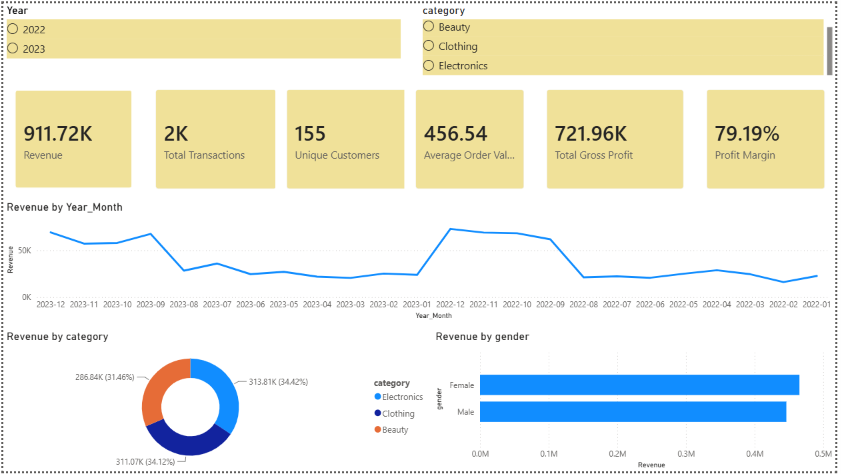

This screenshot's page, from the dashboard's own definition file:
{"tool":"powerbi","page":{"name":"Page 1","canvas":[1280,720],"ordinal":0},"visuals":[{"type":"cardVisual","fields":{"Data":["public retail_sales.Revenue"]},"box":[0,116.1,216.7,187.7],"z":0},{"type":"cardVisual","fields":{"Data":["public retail_sales.Total Transactions"]},"box":[216.7,116.1,220.5,187.7],"z":1000},{"type":"cardVisual","fields":{"Data":["public retail_sales.Unique Customers"]},"box":[417.9,116.1,222.5,187.7],"z":2000},{"type":"cardVisual","fields":{"Data":["public retail_sales.Average Order Value"]},"box":[617.1,116.1,201.2,187.7],"z":3000},{"type":"cardVisual","fields":{"Data":["public retail_sales.Total Gross Profit"]},"box":[818.3,116.1,245.7,187.7],"z":4000},{"type":"cardVisual","fields":{"Data":["public retail_sales.Profit Margin"]},"box":[1064,116.1,216.7,187.7],"z":5000},{"type":"listSlicer","fields":{"Values":["public retail_sales.sale_date.Variation.Date Hierarchy.Year"]},"box":[0,0,616.8,115.5],"z":6000},{"type":"listSlicer","fields":{"Values":["public vw_category_performance.category"]},"box":[640.3,0,640.3,115.5],"z":7000},{"type":"lineChart","fields":{"Category":["public retail_sales.Year_Month"],"Y":["public retail_sales.Revenue"]},"box":[0,303.7,1280.7,187.7],"z":8000},{"type":"donutChart","fields":{"Y":["public retail_sales.Revenue"],"Category":["public vw_category_performance.category"]},"box":[0,501.3,659.9,219.3],"z":9000},{"type":"clusteredBarChart","fields":{"Category":["public retail_sales.gender"],"Y":["public retail_sales.Revenue"]},"box":[660,501,620,219],"z":10000}]}

Visuals, with their boxes in screenshot pixels (x1, y1, x2, y2), scaled from the page's 1280x720 canvas onto the 841x474 screenshot:
cardVisual - public retail_sales.Revenue: <bbox>0, 76, 142, 200</bbox>
cardVisual - public retail_sales.Total Transactions: <bbox>142, 76, 287, 200</bbox>
cardVisual - public retail_sales.Unique Customers: <bbox>275, 76, 421, 200</bbox>
cardVisual - public retail_sales.Average Order Value: <bbox>405, 76, 538, 200</bbox>
cardVisual - public retail_sales.Total Gross Profit: <bbox>538, 76, 699, 200</bbox>
cardVisual - public retail_sales.Profit Margin: <bbox>699, 76, 840, 200</bbox>
listSlicer - public retail_sales.sale_date.Variation.Date Hierarchy.Year: <bbox>0, 0, 405, 76</bbox>
listSlicer - public vw_category_performance.category: <bbox>421, 0, 840, 76</bbox>
lineChart - public retail_sales.Year_Month x public retail_sales.Revenue: <bbox>0, 200, 840, 324</bbox>
donutChart - public retail_sales.Revenue x public vw_category_performance.category: <bbox>0, 330, 434, 473</bbox>
clusteredBarChart - public retail_sales.gender x public retail_sales.Revenue: <bbox>434, 330, 840, 473</bbox>
